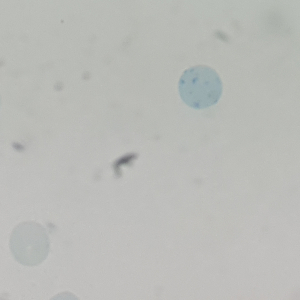aggregate reticulocyte: (176, 63, 224, 111)
erythrocyte: (7, 220, 51, 268)
